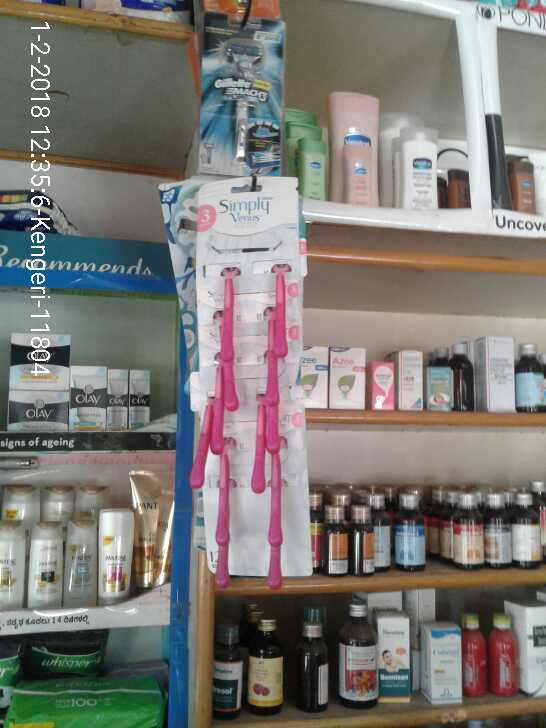beauty: (203, 10, 279, 173), (131, 472, 168, 587), (13, 334, 68, 388), (99, 511, 131, 598), (26, 530, 62, 606), (68, 365, 105, 430), (62, 530, 96, 599), (9, 390, 66, 431), (2, 522, 26, 606), (129, 371, 151, 428), (108, 370, 127, 427)
